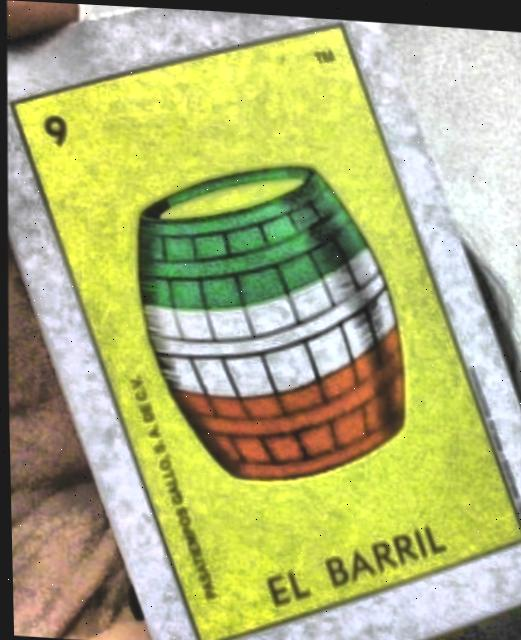El Barril: (12, 22, 521, 640)
